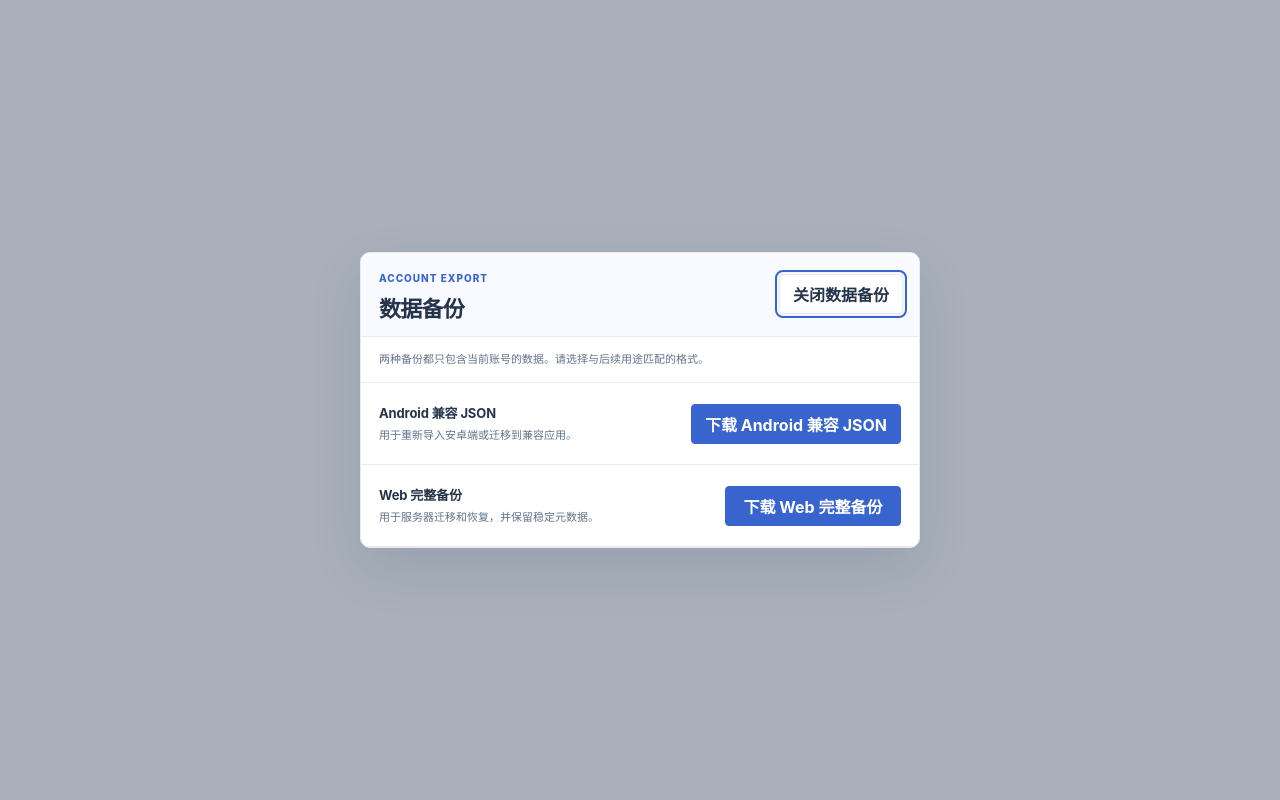
ExportDialog downloads › revokes the object URL and removes the anchor when its click fails
This screenshot has width=1280, height=800.
Click the button "下载 Web 完整备份".
click(813, 506)  # box [725, 486, 901, 526]
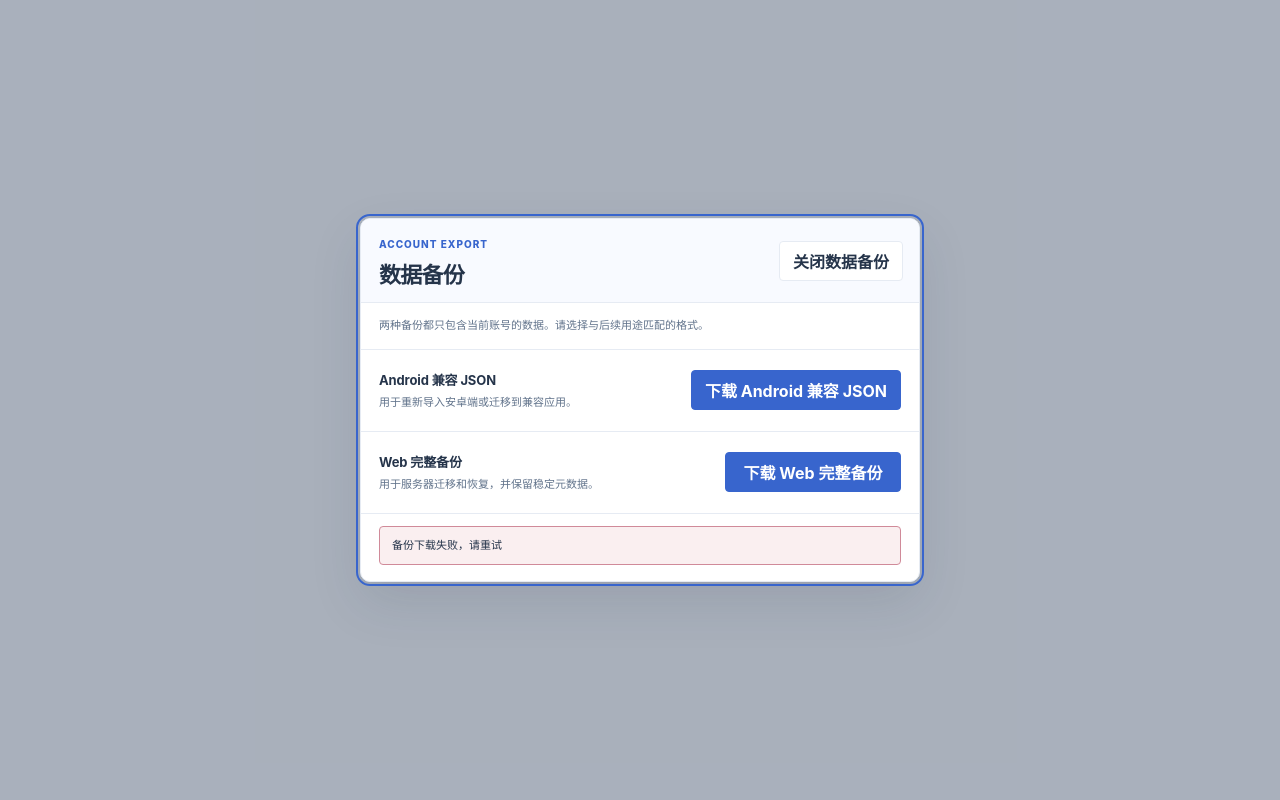
Expected: the message does not show "private browser failure", [379, 526, 901, 565]
Now the message reads "备份下载失败，请重试", box [392, 538, 502, 552]
